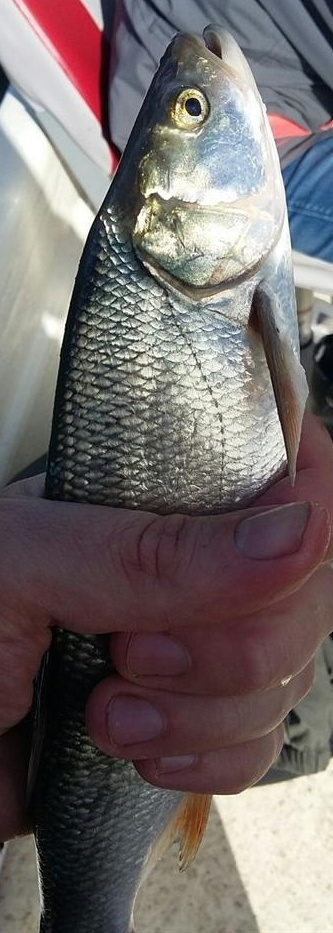Aspius aspius: (20, 20, 313, 933)
